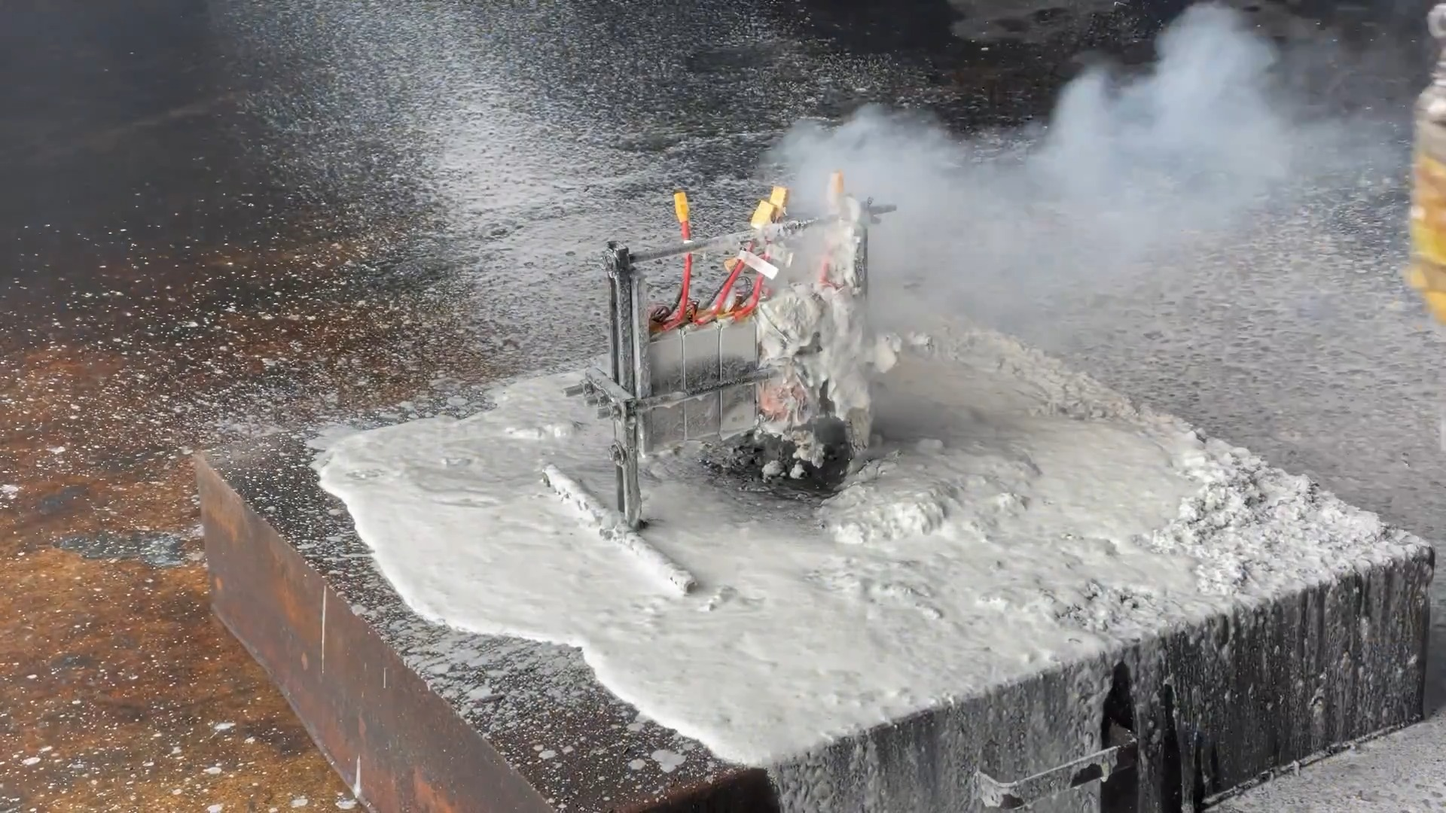smoke: (754, 1, 1381, 374)
